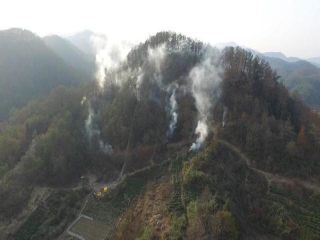smoke: (84, 28, 231, 156)
